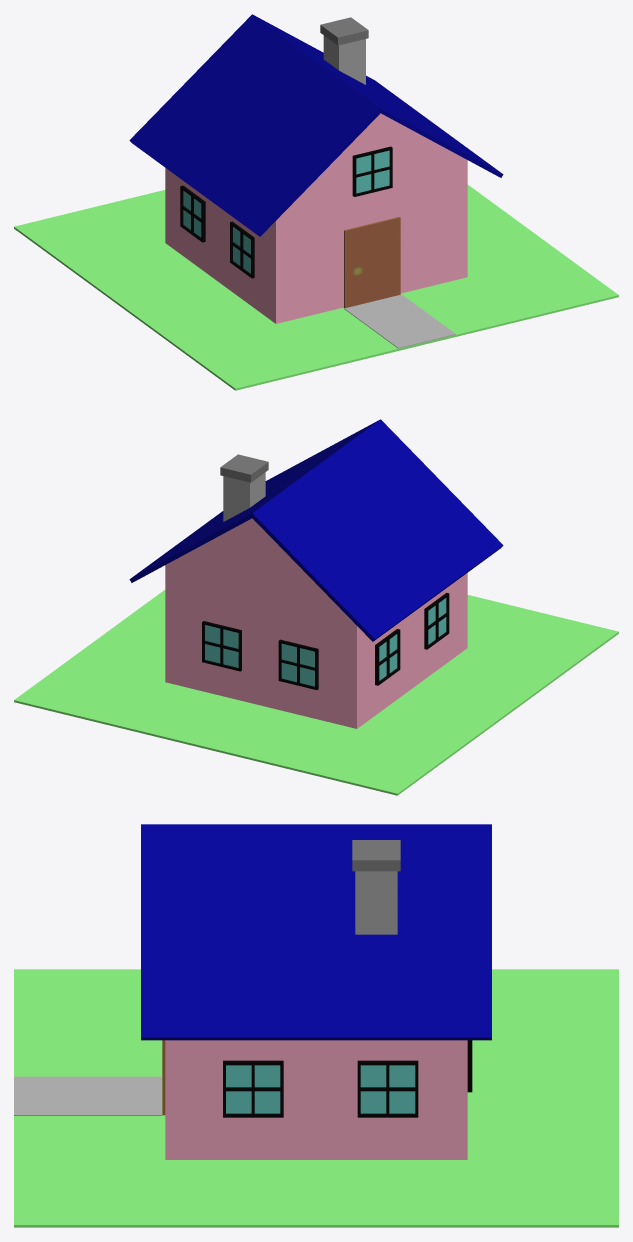
File: house1_blue.gltf
3 renders of one model, top to bottom at view 1: azimuth 30°, elevation 25°; view 2: azimuth 150°, elevation 25°; view 3: azimuth 270°, elevation 25°, orthographic. The views are drawn at different scales.
Visible parts, largest first — view 1: Cube, house.002, house_cube, house.001, house.005, house.003, house.056, house.004, house.007, house.006; view 2: Cube, house.002, house_cube, house.001, house.003, house.004, house.035, house.042, house.006, house.021, house.049; view 3: Cube, house.003, house_cube, house.056, house.004, house.028, house.014, house.006.
Part boxes in pixels (x1,y1,x2,y2): Cube: [14, 185, 618, 390]; house.002: [129, 14, 382, 236]; house_cube: [165, 159, 467, 323]; house.001: [295, 113, 465, 200]; house.005: [343, 217, 400, 308]; house.003: [253, 15, 503, 177]; house.056: [344, 294, 455, 348]; house.004: [323, 35, 365, 84]; house.007: [356, 150, 389, 193]; house.006: [320, 17, 368, 45]; Cube: [14, 590, 618, 795]; house.002: [250, 419, 503, 641]; house_cube: [165, 564, 467, 728]; house.001: [167, 518, 337, 605]; house.003: [129, 420, 379, 582]; house.004: [223, 472, 265, 521]; house.035: [205, 625, 238, 667]; house.042: [281, 643, 314, 686]; house.006: [220, 454, 268, 482]; house.021: [428, 598, 446, 644]; house.049: [379, 634, 397, 680]; Cube: [14, 969, 618, 1227]; house.003: [141, 824, 491, 1040]; house_cube: [165, 1040, 467, 1159]; house.056: [14, 1076, 161, 1115]; house.004: [355, 871, 397, 934]; house.028: [360, 1065, 415, 1113]; house.014: [226, 1065, 280, 1113]; house.006: [352, 840, 400, 871].
Size of the model in its own units: 20 by 10.32 by 20.
Materials: 2 (2 with a texture image).
